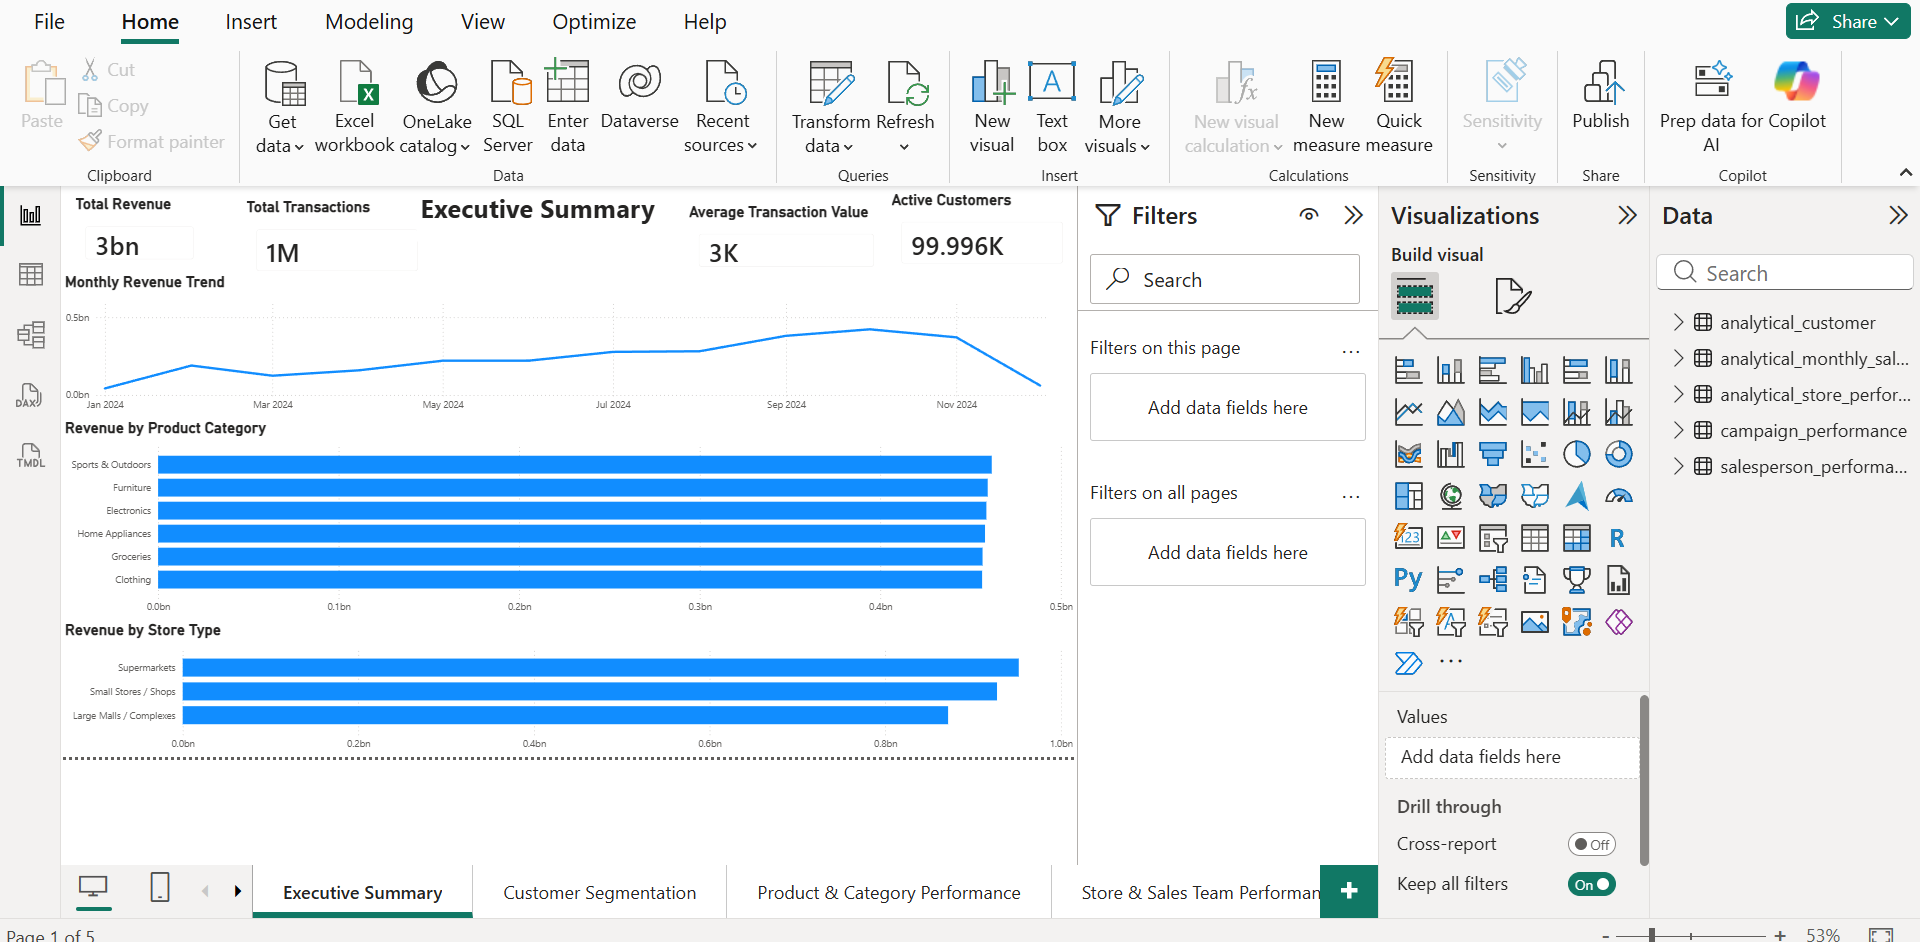

The page's visual inventory and layout, read from the dashboard file:
{"tool":"powerbi","page":{"name":"Executive Summary","canvas":[1280,720],"ordinal":0},"visuals":[{"type":"cardVisual","title":"Total Revenue","fields":{"Data":["Sum(analytical_monthly_sales.total_revenue)"]},"box":[13.2,11.3,172,98.3],"z":0},{"type":"cardVisual","title":"Active Customers","fields":{"Data":["CountNonNull(analytical_customer.customer_id)"]},"box":[1041.3,5.7,238.1,109.6],"z":1000},{"type":"cardVisual","title":"Average Transaction Value","fields":{"Data":["Avg(analytical_monthly_sales.avg_transaksi)"]},"box":[786.1,20.8,255.1,98.3],"z":2000},{"type":"cardVisual","title":"Total Transactions","fields":{"Data":["Sum(analytical_monthly_sales.jumlah_transaksi)"]},"box":[228.7,15.1,238.1,109.6],"z":3000},{"type":"textbox","box":[447.9,0,311.8,69.9],"z":4000},{"type":"lineChart","title":"Monthly Revenue Trend","fields":{"Category":["analytical_monthly_sales.bulan"],"Y":["Sum(analytical_monthly_sales.total_revenue)"]},"box":[0,109.6,1264.3,183.3],"z":5000},{"type":"clusteredBarChart","title":"Revenue by Product Category","fields":{"Y":["Sum(analytical_monthly_sales.total_revenue)"],"Category":["analytical_monthly_sales.category"]},"box":[0,292.9,1279.4,255.1],"z":6000},{"type":"clusteredBarChart","title":"Revenue by Store Type","fields":{"Category":["analytical_monthly_sales.store_type"],"Y":["Sum(analytical_monthly_sales.total_revenue)"]},"box":[0,548,1279.4,172],"z":7000}]}

Visuals, with their boxes on the page's 1280x720 design canvas (x1, y1, x2, y2). These are canvas units, not pixel positions in the 1920x942 screenshot, which may show the page scaled, cropped or inside an application window:
"Total Revenue" cardVisual: {"x1": 13, "y1": 11, "x2": 185, "y2": 110}
"Active Customers" cardVisual: {"x1": 1041, "y1": 6, "x2": 1279, "y2": 115}
"Average Transaction Value" cardVisual: {"x1": 786, "y1": 21, "x2": 1041, "y2": 119}
"Total Transactions" cardVisual: {"x1": 229, "y1": 15, "x2": 467, "y2": 125}
textbox: {"x1": 448, "y1": 0, "x2": 760, "y2": 70}
"Monthly Revenue Trend" lineChart: {"x1": 0, "y1": 110, "x2": 1264, "y2": 293}
"Revenue by Product Category" clusteredBarChart: {"x1": 0, "y1": 293, "x2": 1279, "y2": 548}
"Revenue by Store Type" clusteredBarChart: {"x1": 0, "y1": 548, "x2": 1279, "y2": 720}
